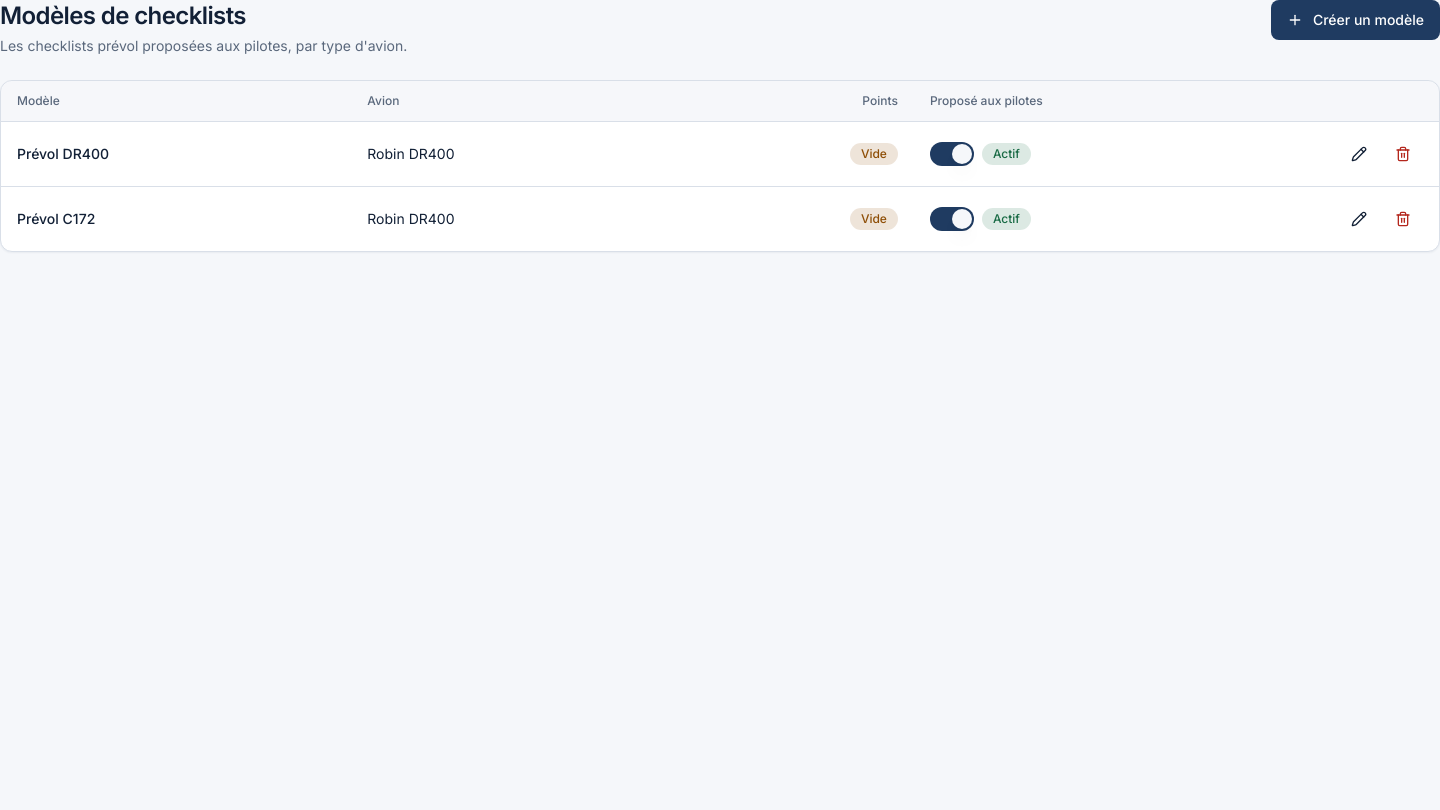
Test: AdminChecklistsPage — suppression d’un modèle › demande confirmation en nommant le modèle, puis le supprime et rafraîchit la liste
The width and height of the screenshot is (1440, 810).
Click the button named "Supprimer le modèle Prévol DR400". click: click(1403, 154)
box: [1383,134,1423,174]
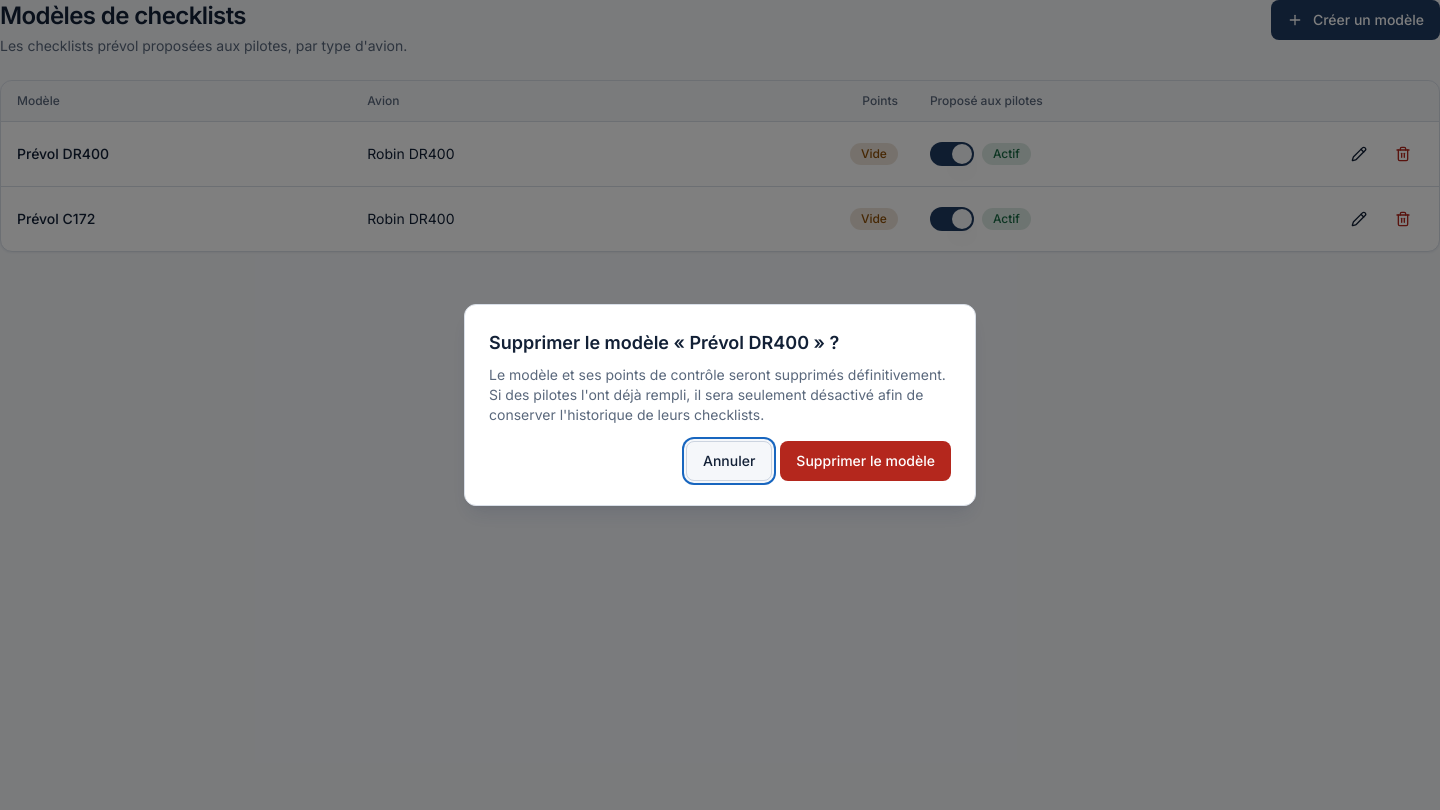
Expected: the text "il sera seulement désactivé afin de conserver l'historique" is shown, [489,366,946,423]
Click the button "Supprimer le modèle". click: click(866, 461)
box: [780,441,951,481]
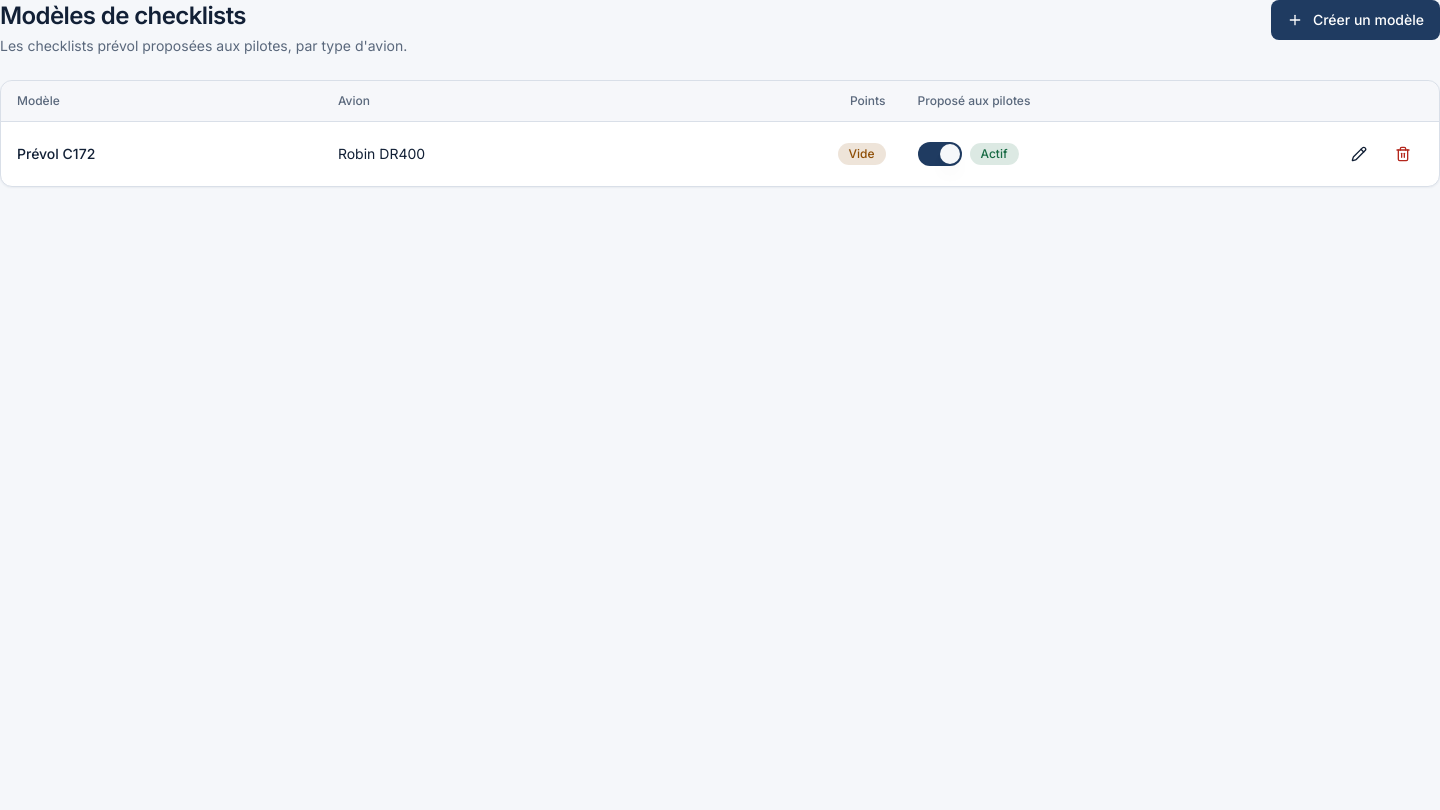
Expected: the text "Prévol C172" is shown, [17,144,95,162]
Expected: the dialog is gone
Expected: the text "Prévol DR400" is gone
